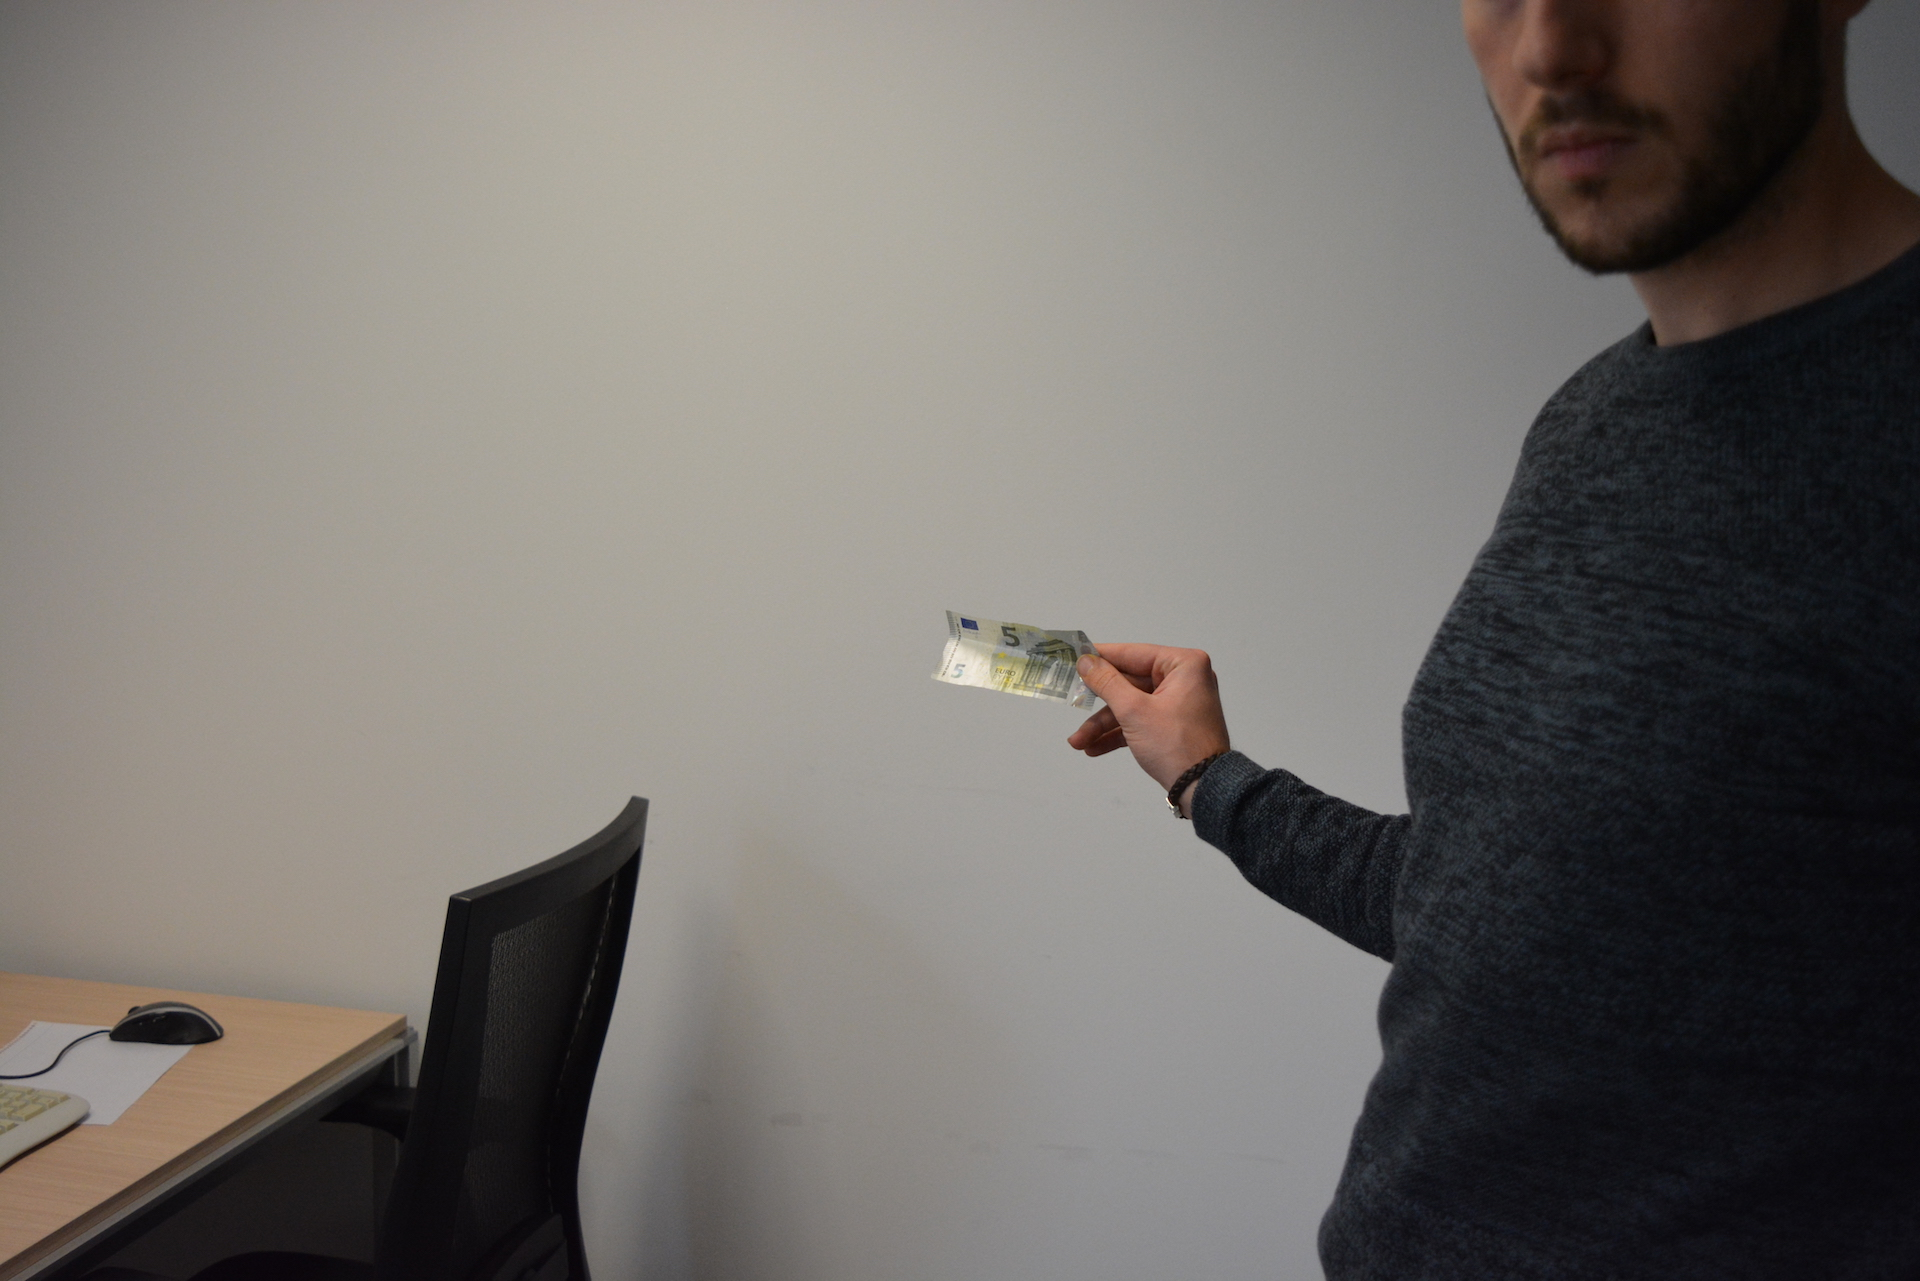billete: (931, 608, 1099, 711)
